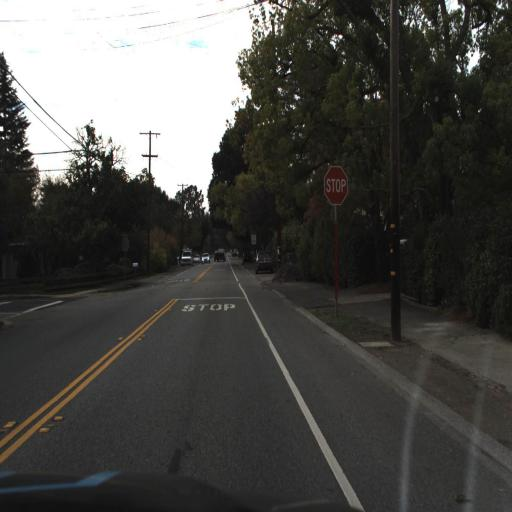car: (255, 243, 280, 275), (174, 247, 194, 266), (213, 245, 226, 266), (200, 252, 210, 264)
